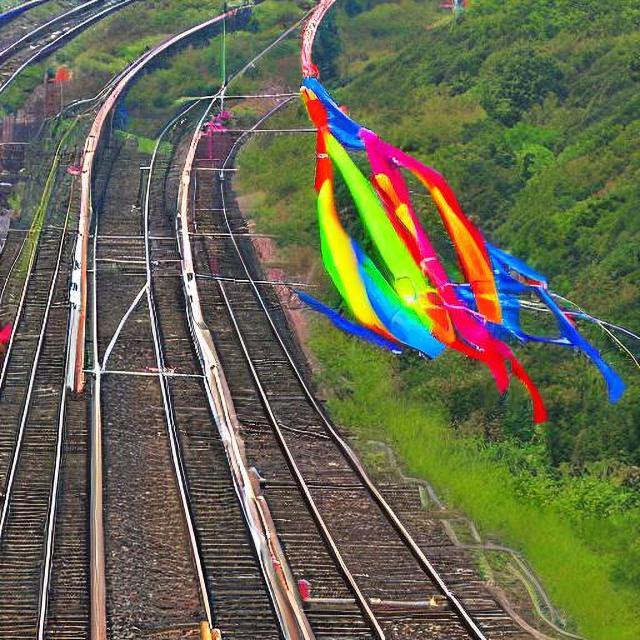floating object: (288, 6, 612, 432)
